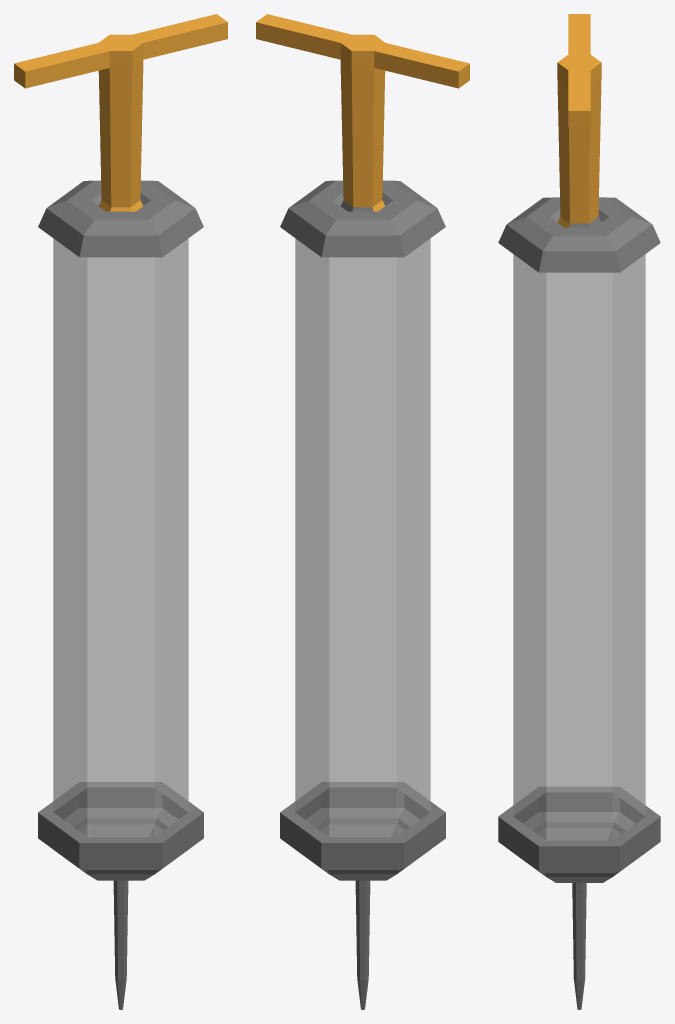
Rendered from syringe.fbx.
3 renders of one model, left to right at view 1: azimuth 30°, elevation 25°; view 2: azimuth 150°, elevation 25°; view 3: azimuth 270°, elevation 25°, orthographic. The views are drawn at different scales.
Visible parts, largest first — view 1: Cylinder; view 2: Cylinder; view 3: Cylinder.
Boxes of the visible parts, <box> form: Cylinder: <box>14,14,227,1009</box>; Cylinder: <box>256,14,469,1009</box>; Cylinder: <box>498,14,660,1009</box>.
Size of the model in its own units: 241 by 1099 by 171.
2 materials, 1 textured.
